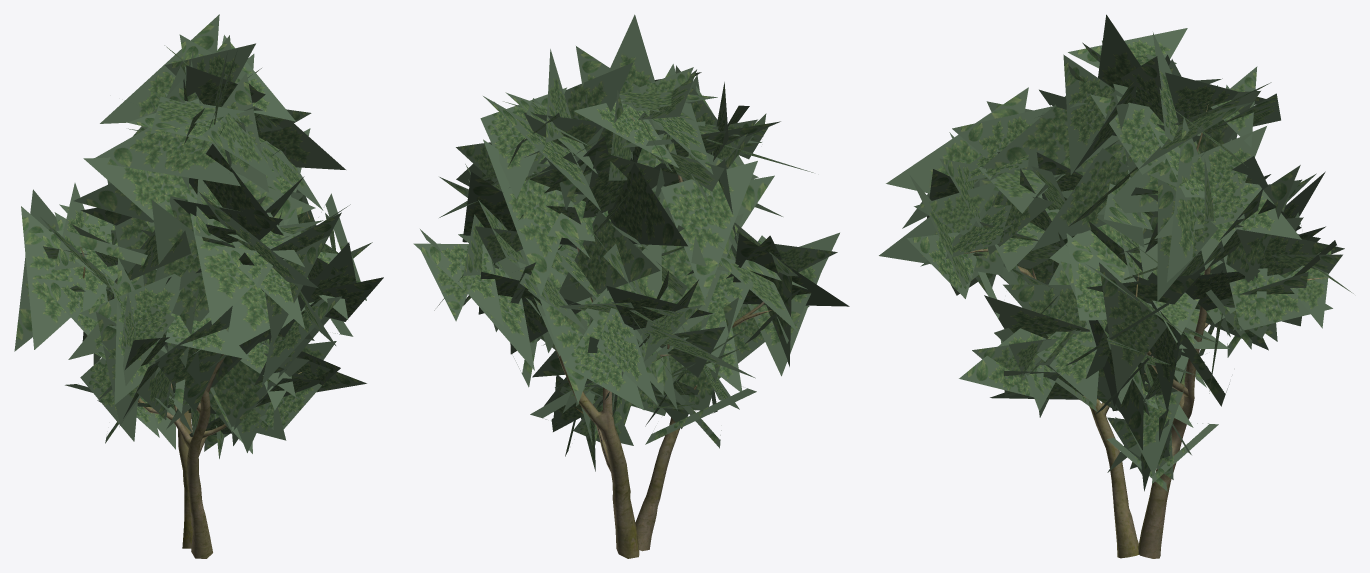
File: MiddleTree1.fbx
3 views of the same model, side by side, from view 1: azimuth 30°, elevation 25°; view 2: azimuth 150°, elevation 25°; view 3: azimuth 270°, elevation 25° (orthographic). The views are drawn at different scales.
Parts seen in each view (by area): view 1: SM_d_109_MiddleTree_01a; view 2: SM_d_109_MiddleTree_01a; view 3: SM_d_109_MiddleTree_01a.
Part boxes in pixels (bbox=[...]): SM_d_109_MiddleTree_01a: bbox=[14, 14, 383, 558]; SM_d_109_MiddleTree_01a: bbox=[413, 14, 849, 558]; SM_d_109_MiddleTree_01a: bbox=[879, 14, 1353, 558].
Bounding box in the file's own units: 756 × 1195 × 935.
